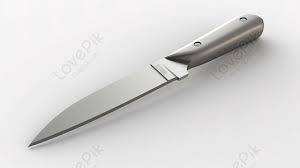Knife: (27, 12, 264, 147)
